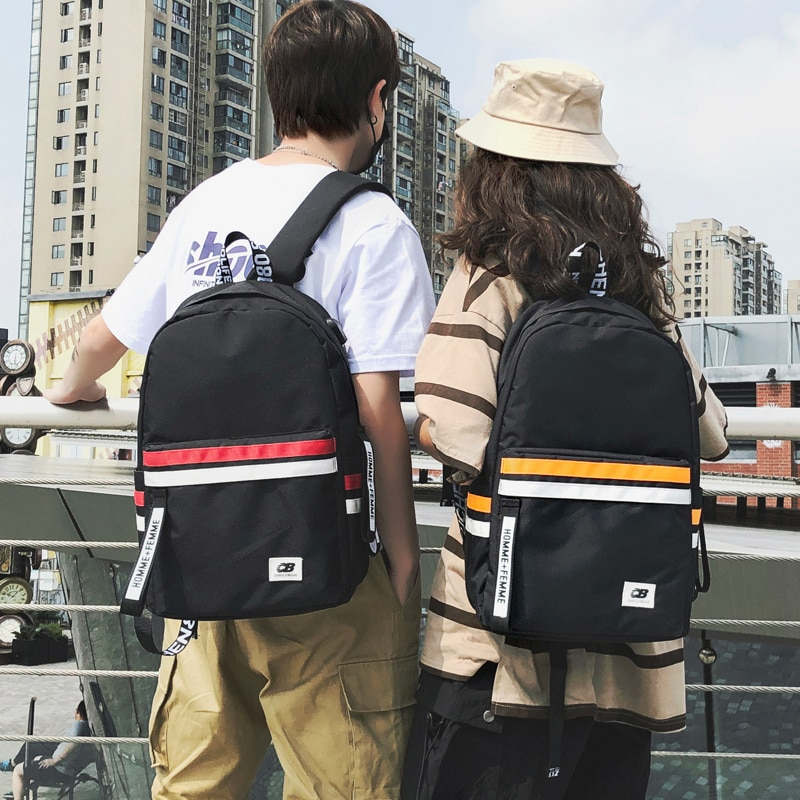Accessories|Hats: (455, 61, 616, 168)
Accessories|Necklaces: (271, 142, 337, 167)
Bottoms|Pants: (146, 559, 422, 800)
Men's Backpacks: (117, 171, 389, 624), (452, 241, 707, 643)
Tops|T-shirts & Tanks: (97, 157, 433, 375)
